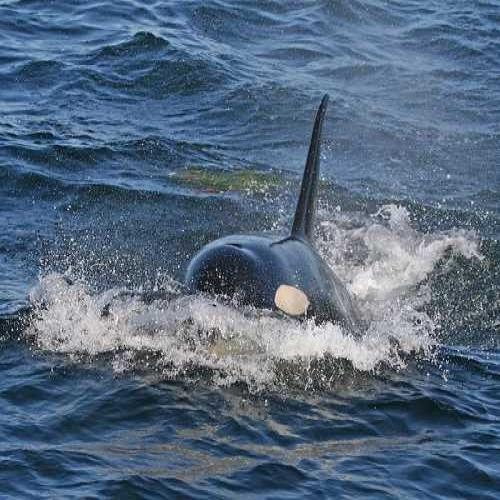killer_whale-endangered: (159, 82, 426, 377)
